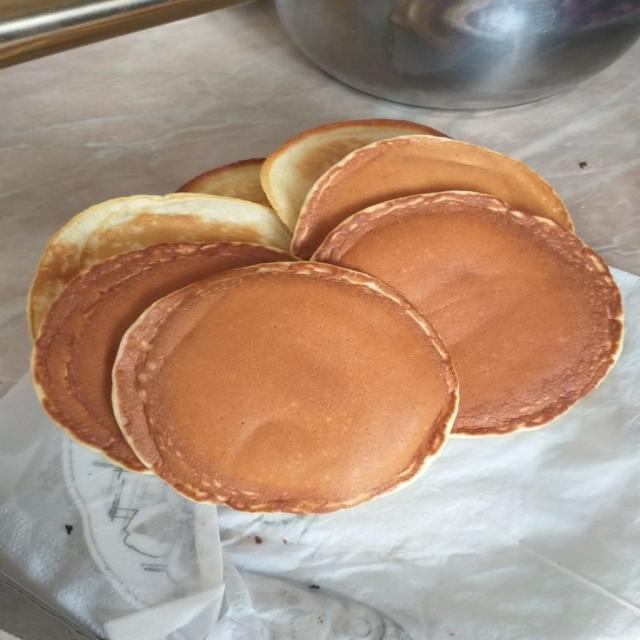pancake: (113, 263, 457, 513), (314, 192, 622, 435), (32, 243, 293, 471), (28, 194, 290, 337), (292, 136, 573, 259), (260, 119, 446, 230), (177, 159, 270, 206)
